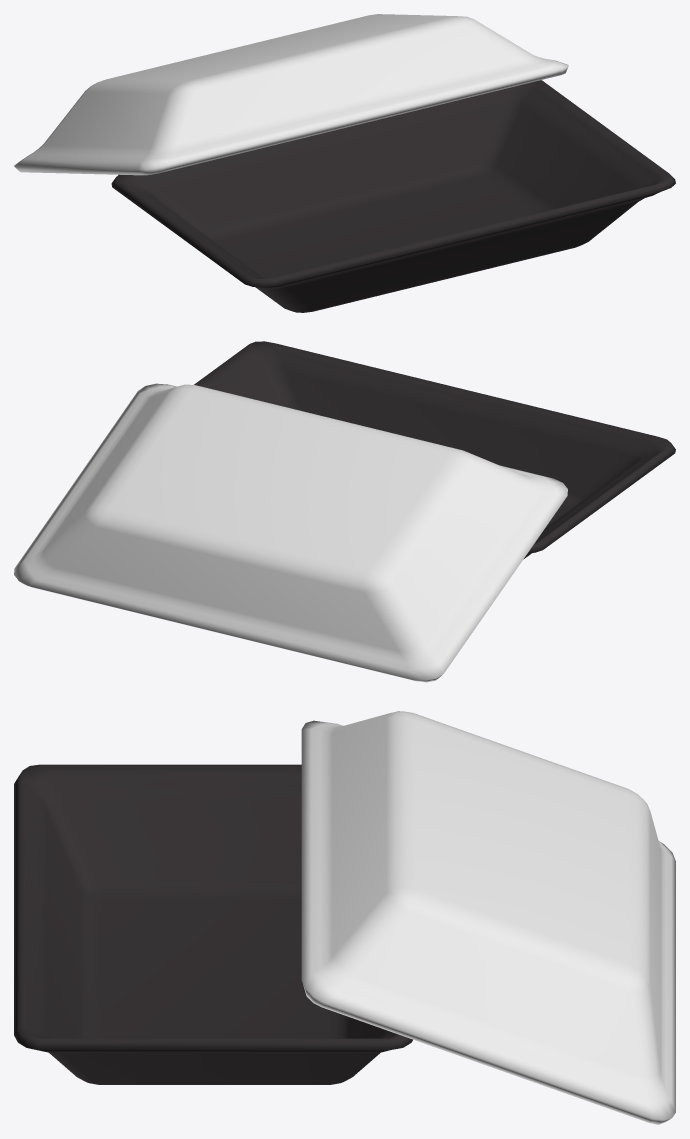
File: Container.fbx
3 renders of one model, top to bottom at view 1: azimuth 30°, elevation 25°; view 2: azimuth 150°, elevation 25°; view 3: azimuth 270°, elevation 25°, orthographic. The views are drawn at different scales.
Parts seen in each view (by area): view 1: Container, Container.001; view 2: Container.001, Container; view 3: Container.001, Container.
Part boxes in pixels (x1,y1,x2,y2): Container: (111, 80, 675, 312); Container.001: (14, 14, 568, 175); Container.001: (14, 383, 567, 682); Container: (194, 341, 675, 559); Container.001: (301, 711, 675, 1124); Container: (14, 764, 412, 1084).
Bounding box in the file's own units: 2.92 × 2.91 × 0.929.
